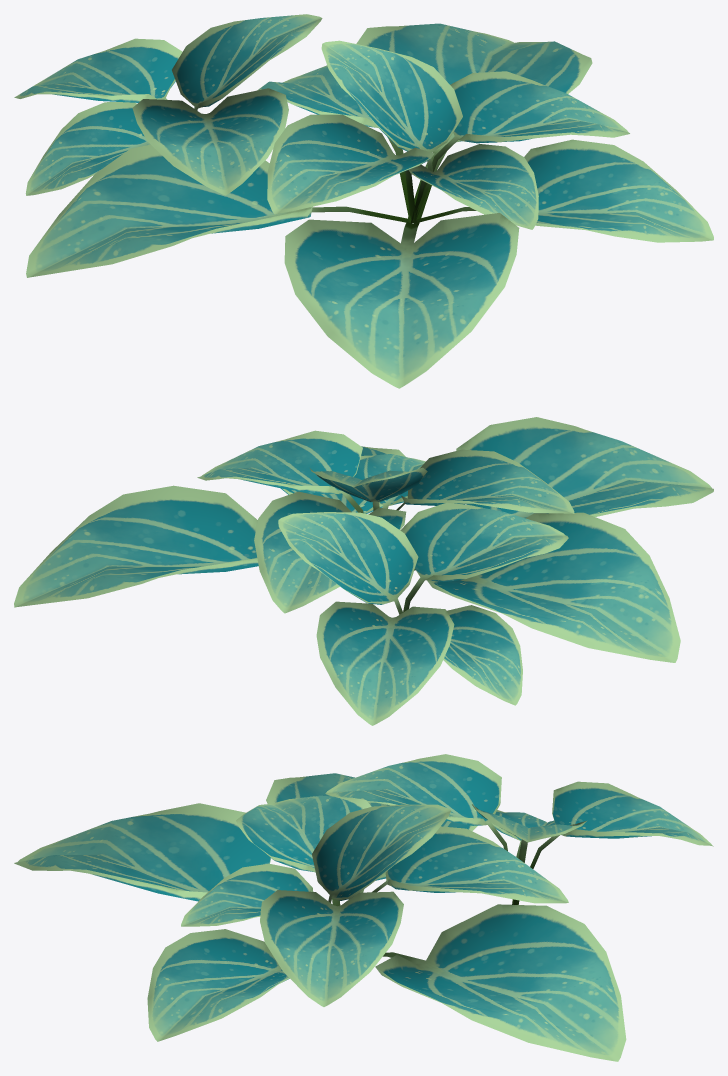
The model's file is Hosta_G_02.fbx.
3 views of the same model, one above another, from view 1: azimuth 30°, elevation 25°; view 2: azimuth 150°, elevation 25°; view 3: azimuth 270°, elevation 25° (orthographic). The views are drawn at different scales.
Parts seen in each view (by area): view 1: Hosta_G_02; view 2: Hosta_G_02; view 3: Hosta_G_02.
Part boxes in pixels (box(x1,y1,x2,y2)): Hosta_G_02: box(14, 14, 713, 388); Hosta_G_02: box(14, 417, 713, 725); Hosta_G_02: box(14, 754, 713, 1061).
Bounding box in the file's own units: 102 × 23.2 × 109.
